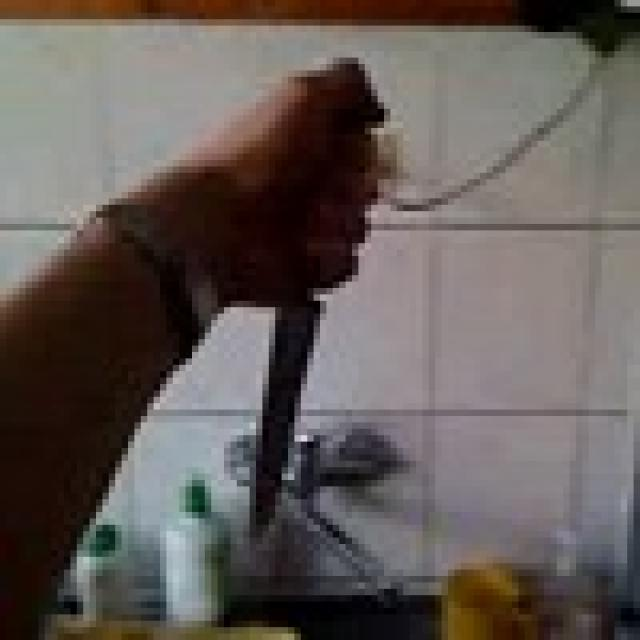Knife: (243, 83, 378, 544)
